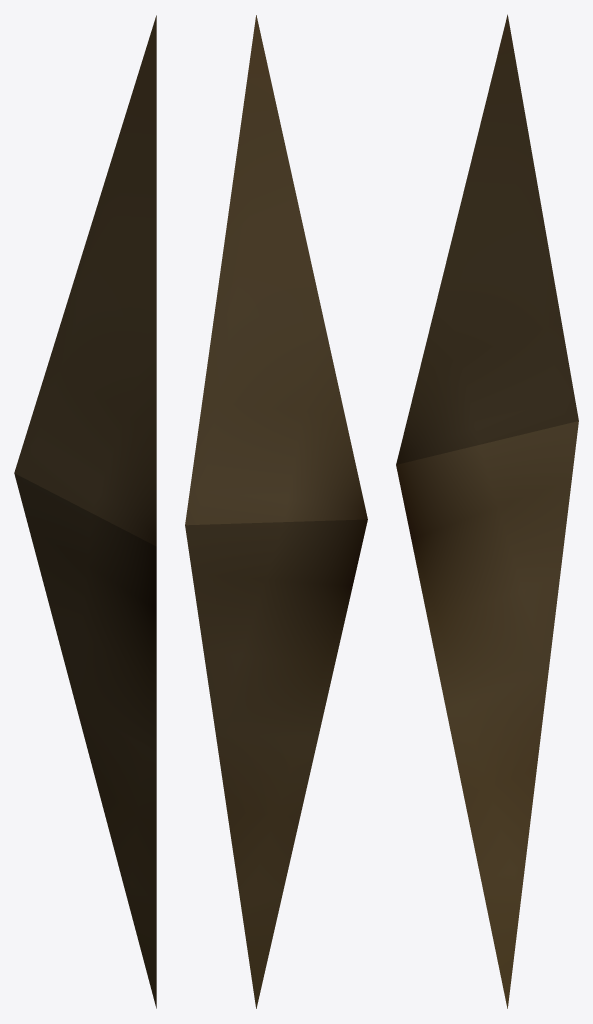
3 renders of one model, left to right at view 1: azimuth 90°, elevation 25°; view 2: azimuth 150°, elevation 25°; view 3: azimuth 330°, elevation 25°, orthographic.
Size of the model in its own units: 0.00903 by 0.077 by 0.00998.
1 material, 1 textured.
